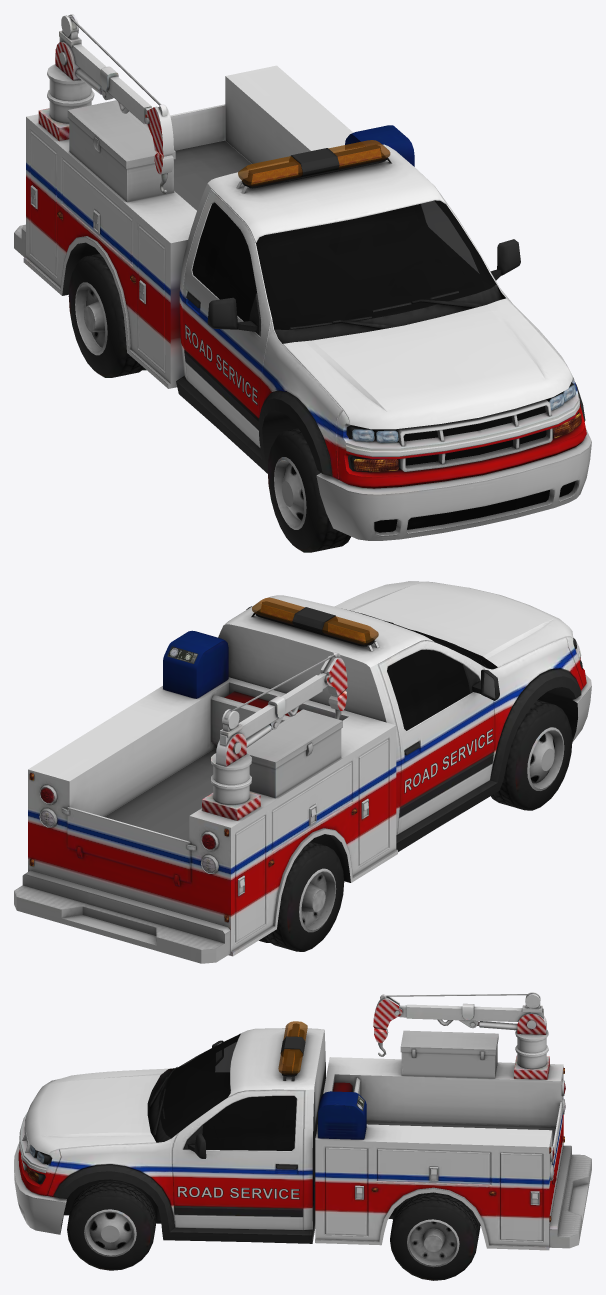
The model's file is servicetruck.glb.
3 renders of one model, top to bottom at view 1: azimuth 30°, elevation 25°; view 2: azimuth 150°, elevation 25°; view 3: azimuth 270°, elevation 25°, orthographic. The views are drawn at different scales.
Visible parts, largest first — view 1: rdservtruck_cervicetruck_tex_0, rdservtruck_glass_tex_0 (×2), rdservtruck_optics_tex_0, rdservtruck_decals_tex_0; view 2: rdservtruck_cervicetruck_tex_0, rdservtruck_glass_tex_0 (×2), rdservtruck_optics_tex_0, rdservtruck_decals_tex_0; view 3: rdservtruck_cervicetruck_tex_0, rdservtruck_glass_tex_0 (×2), rdservtruck_decals_tex_0, rdservtruck_optics_tex_0.
Part boxes in pixels (<box>): rdservtruck_cervicetruck_tex_0: <box>14,14,591,552</box>; rdservtruck_glass_tex_0 (×2): <box>192,140,496,329</box>; rdservtruck_optics_tex_0: <box>57,147,581,471</box>; rdservtruck_decals_tex_0: <box>185,324,257,405</box>; rdservtruck_cervicetruck_tex_0: <box>14,581,591,963</box>; rdservtruck_glass_tex_0 (×2): <box>252,597,485,730</box>; rdservtruck_optics_tex_0: <box>29,604,370,922</box>; rdservtruck_decals_tex_0: <box>404,728,493,793</box>; rdservtruck_cervicetruck_tex_0: <box>14,992,591,1280</box>; rdservtruck_glass_tex_0 (×2): <box>158,1021,307,1150</box>; rdservtruck_decals_tex_0: <box>177,1186,299,1199</box>; rdservtruck_optics_tex_0: <box>26,1026,565,1221</box>.
Bounding box in the file's own units: 2.27 × 2.19 × 5.32.
5 materials, 5 textured.
